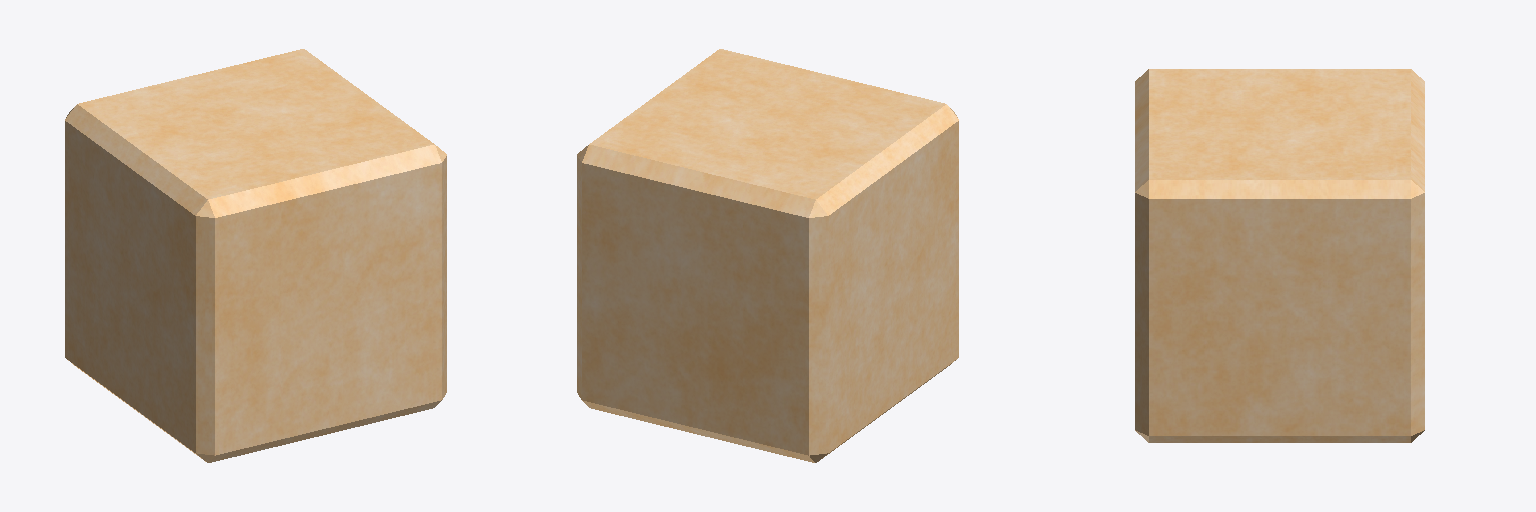
3 renders of one model, left to right at view 1: azimuth 30°, elevation 25°; view 2: azimuth 150°, elevation 25°; view 3: azimuth 270°, elevation 25°, orthographic.
Visible parts, largest first — view 1: Cube; view 2: Cube; view 3: Cube.
Part boxes in pixels (x1,y1,x2,y2): Cube: (65, 49, 446, 462); Cube: (577, 49, 958, 462); Cube: (1135, 69, 1424, 442).
Bounding box in the file's own units: 2 × 2 × 2.
1 materials, 1 textured.